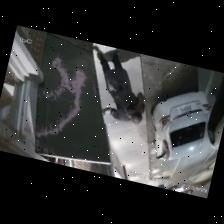person: (97, 50, 145, 123)
